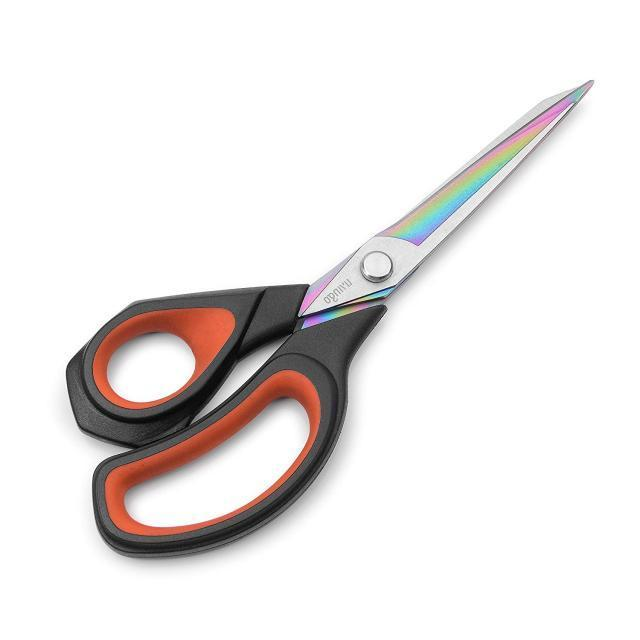scissor: (62, 74, 596, 558)
